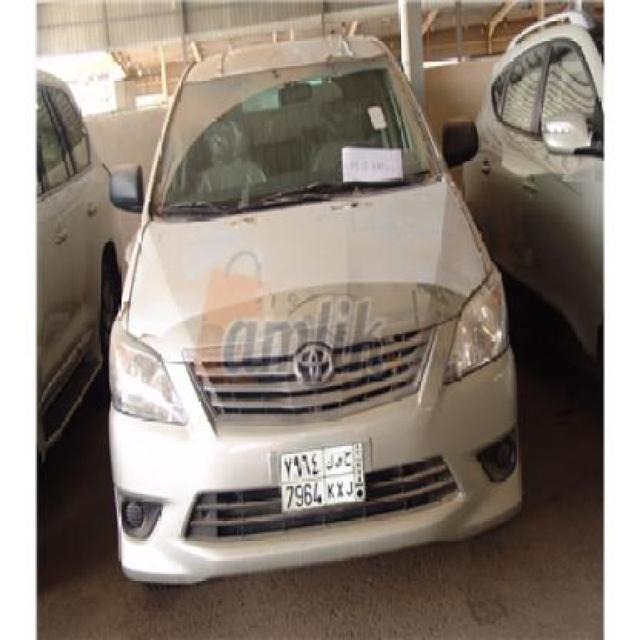license_plate: (276, 438, 369, 518)
